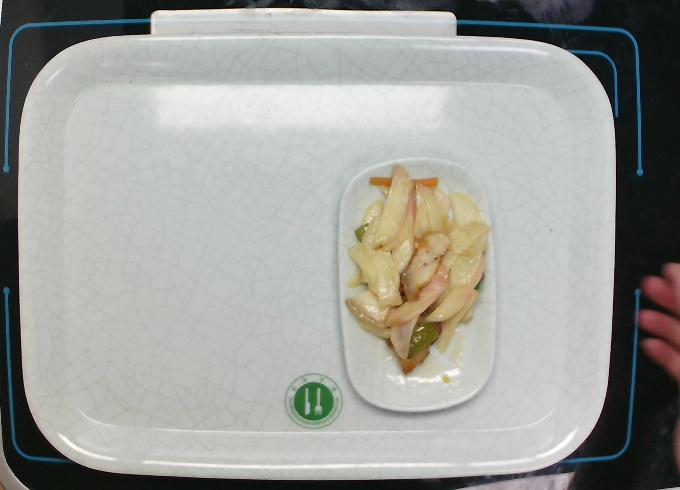WCQzf-Tuo_Yuan_Pan: (332, 152, 502, 418)
